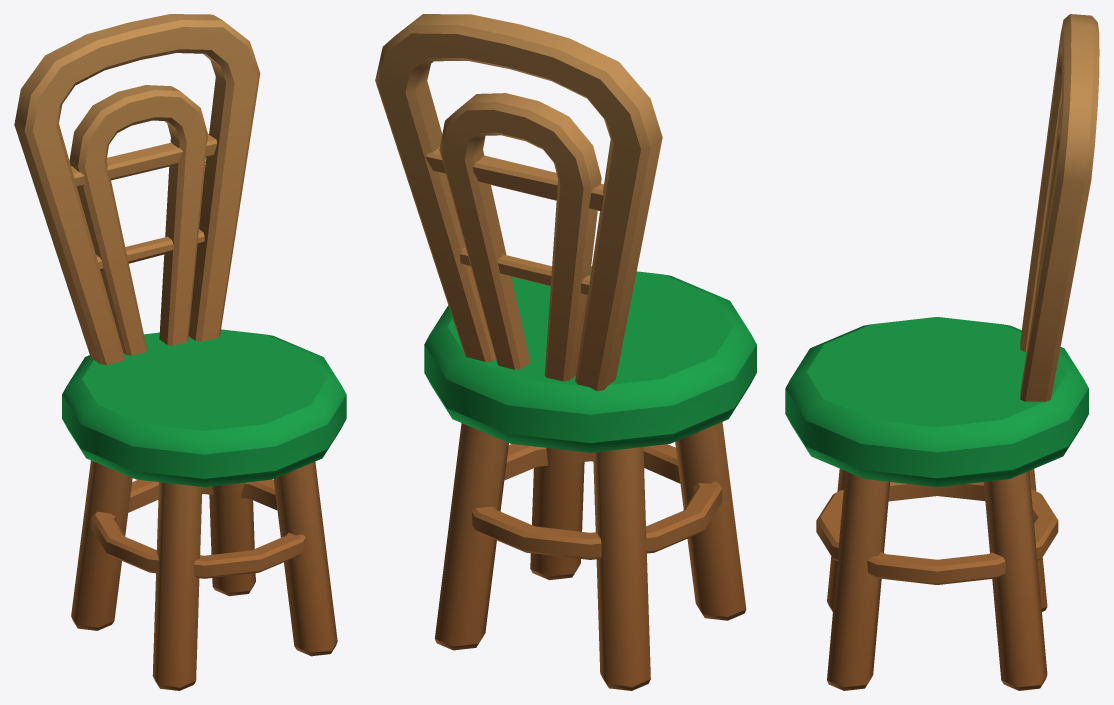
The model's file is Chair_3_A.glb.
3 views of the same model, side by side, from view 1: azimuth 30°, elevation 25°; view 2: azimuth 150°, elevation 25°; view 3: azimuth 270°, elevation 25° (orthographic). The views are drawn at different scales.
Parts seen in each view (by area): view 1: Chair_3_A; view 2: Chair_3_A; view 3: Chair_3_A.
Boxes of the visible parts, left/top/right/bottom form: Chair_3_A: left=14, top=14, right=346, bottom=690; Chair_3_A: left=375, top=14, right=756, bottom=690; Chair_3_A: left=785, top=14, right=1099, bottom=690.
Size of the model in its own units: 0.5328 by 1.16 by 0.5514.
1 material, 1 textured.
